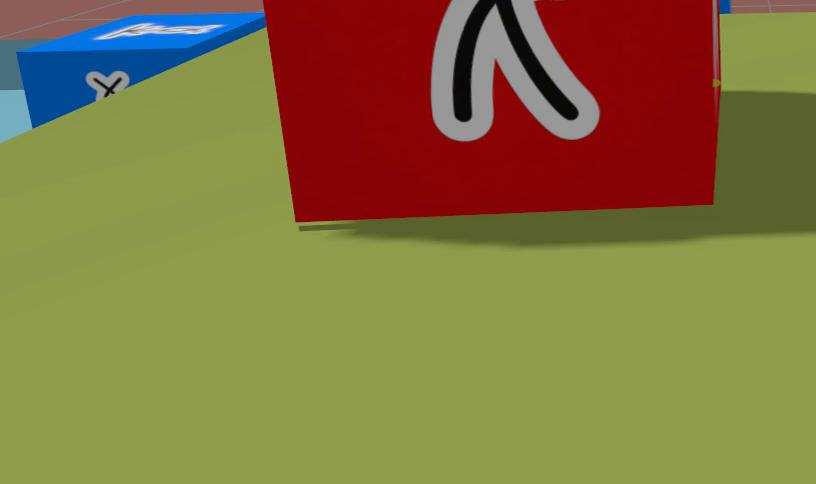KFS_FAKE: (261, 0, 725, 223), (431, 0, 598, 141)
KFS_REAL: (17, 12, 268, 127), (97, 23, 223, 38), (86, 71, 131, 99), (718, 0, 731, 13)
